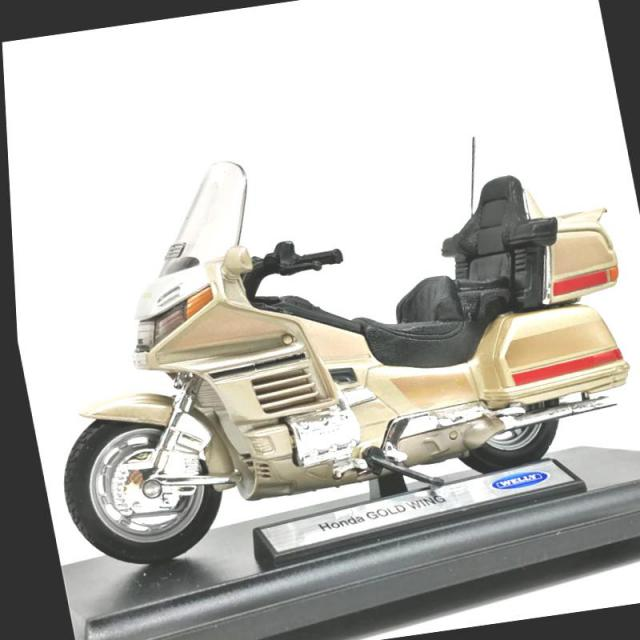Gold Wing: (4, 101, 639, 573)
